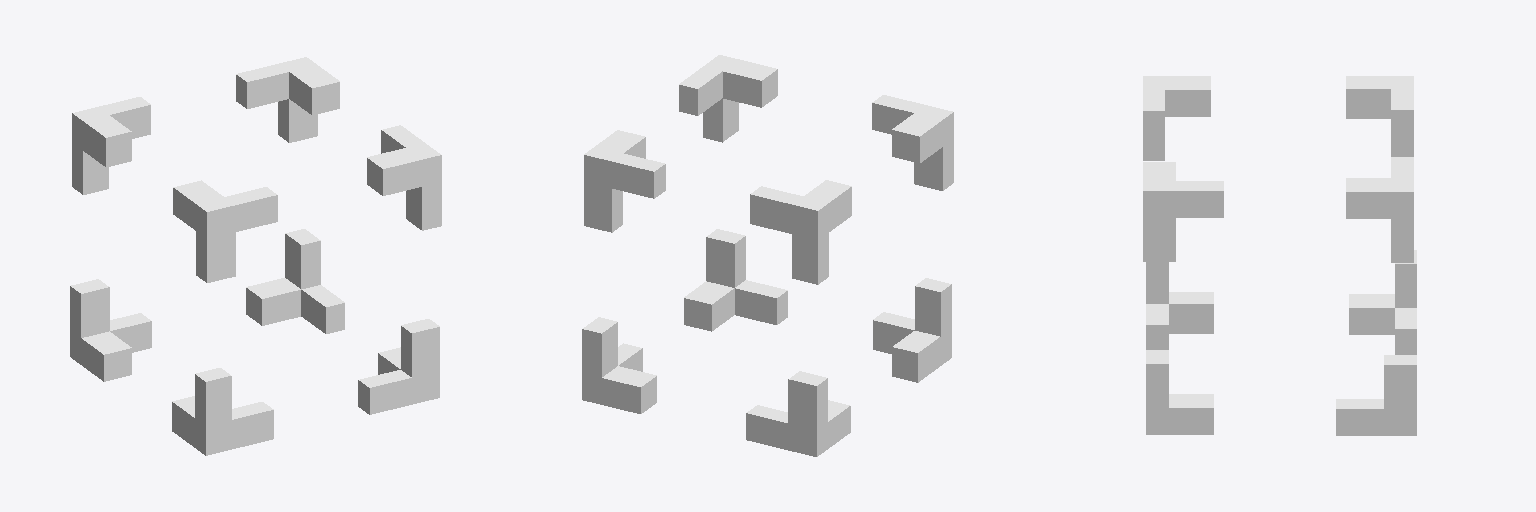
File: AttachCube.obj
3 renders of one model, left to right at view 1: azimuth 30°, elevation 25°; view 2: azimuth 150°, elevation 25°; view 3: azimuth 270°, elevation 25°, orthographic.
Parts seen in each view (by area): view 1: Box009, Box004, Box003, Box005, Box006, Box007, Box002, Box008; view 2: Box002, Box007, Box005, Box006, Box003, Box008, Box009, Box004; view 3: Box008, Box004, Box006, Box005, Box003, Box002, Box007, Box009.
Part boxes in pixels (left/top/right/bottom): Box009: left=173, top=180, right=277, bottom=282; Box004: left=246, top=229, right=344, bottom=333; Box003: left=172, top=368, right=273, bottom=455; Box005: left=70, top=279, right=151, bottom=381; Box006: left=236, top=57, right=339, bottom=142; Box007: left=72, top=97, right=150, bottom=194; Box002: left=358, top=319, right=439, bottom=414; Box008: left=367, top=125, right=441, bottom=230; Box002: left=684, top=229, right=787, bottom=331; Box007: left=750, top=180, right=851, bottom=284; Box005: left=746, top=371, right=850, bottom=456; Box006: left=584, top=130, right=665, bottom=232; Box003: left=873, top=278, right=951, bottom=382; Box008: left=679, top=55, right=777, bottom=142; Box009: left=872, top=95, right=953, bottom=190; Box004: left=582, top=317, right=656, bottom=413; Box008: left=1143, top=162, right=1223, bottom=261; Box004: left=1336, top=355, right=1416, bottom=435; Box006: left=1346, top=157, right=1413, bottom=262; Box005: left=1349, top=250, right=1416, bottom=354; Box003: left=1146, top=262, right=1213, bottom=349; Box002: left=1146, top=350, right=1213, bottom=434; Box007: left=1346, top=76, right=1413, bottom=156; Box009: left=1143, top=76, right=1210, bottom=160.
Bounding box in the file's own units: 10 × 9.98 × 10.12.